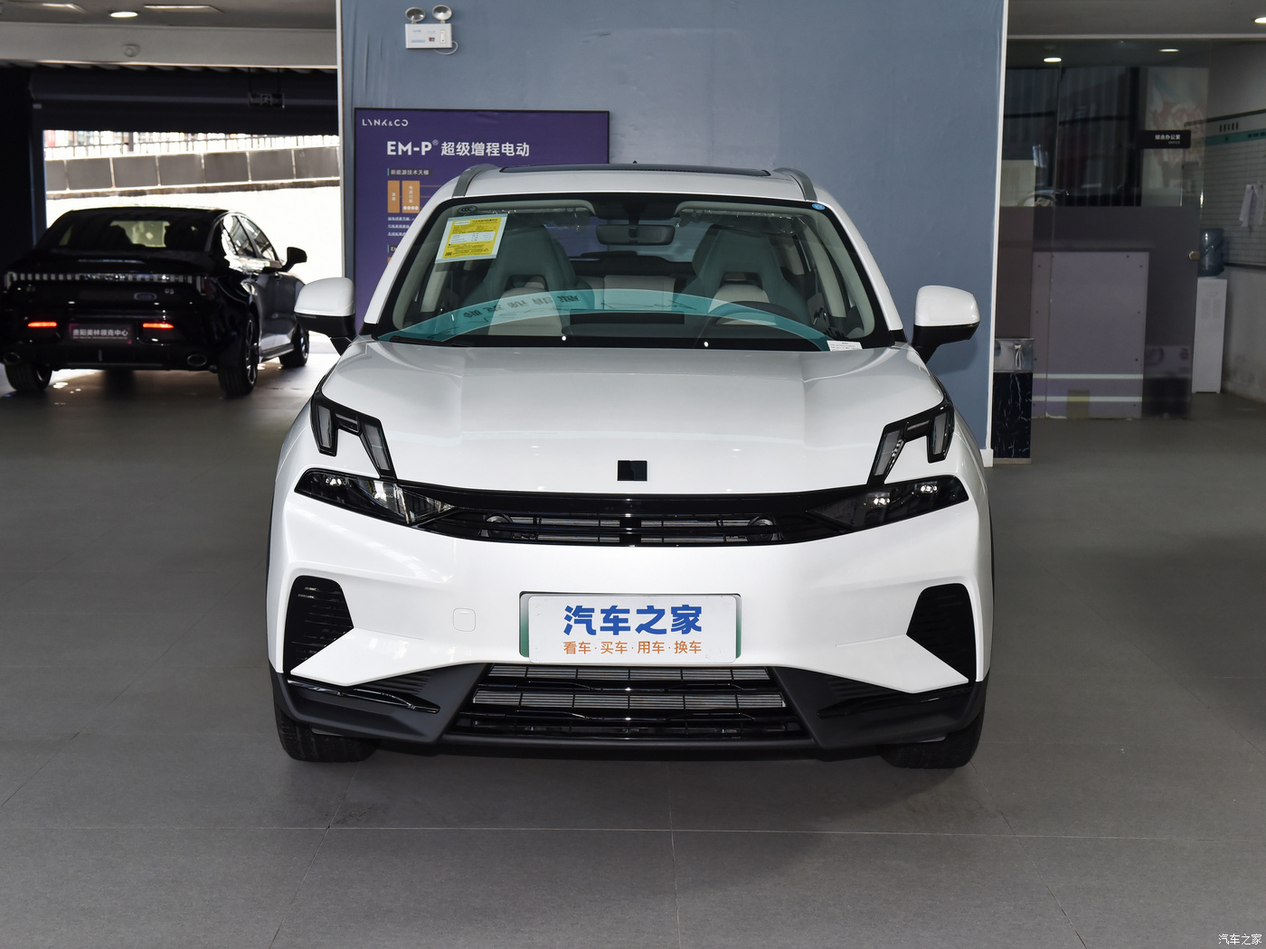LINK&CO: (618, 460, 647, 481)
